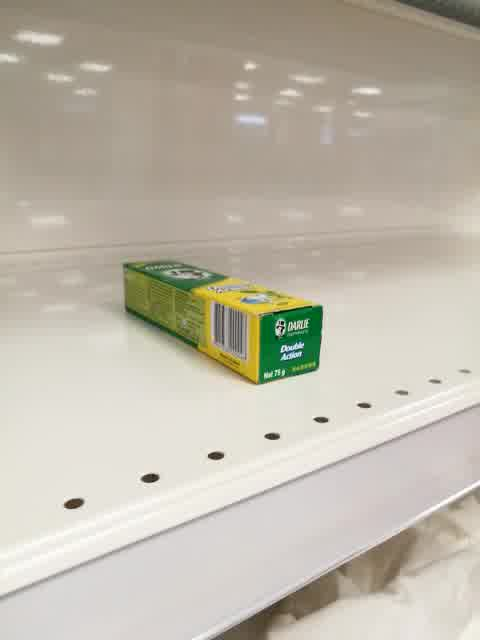toothpaste: (120, 259, 325, 388)
